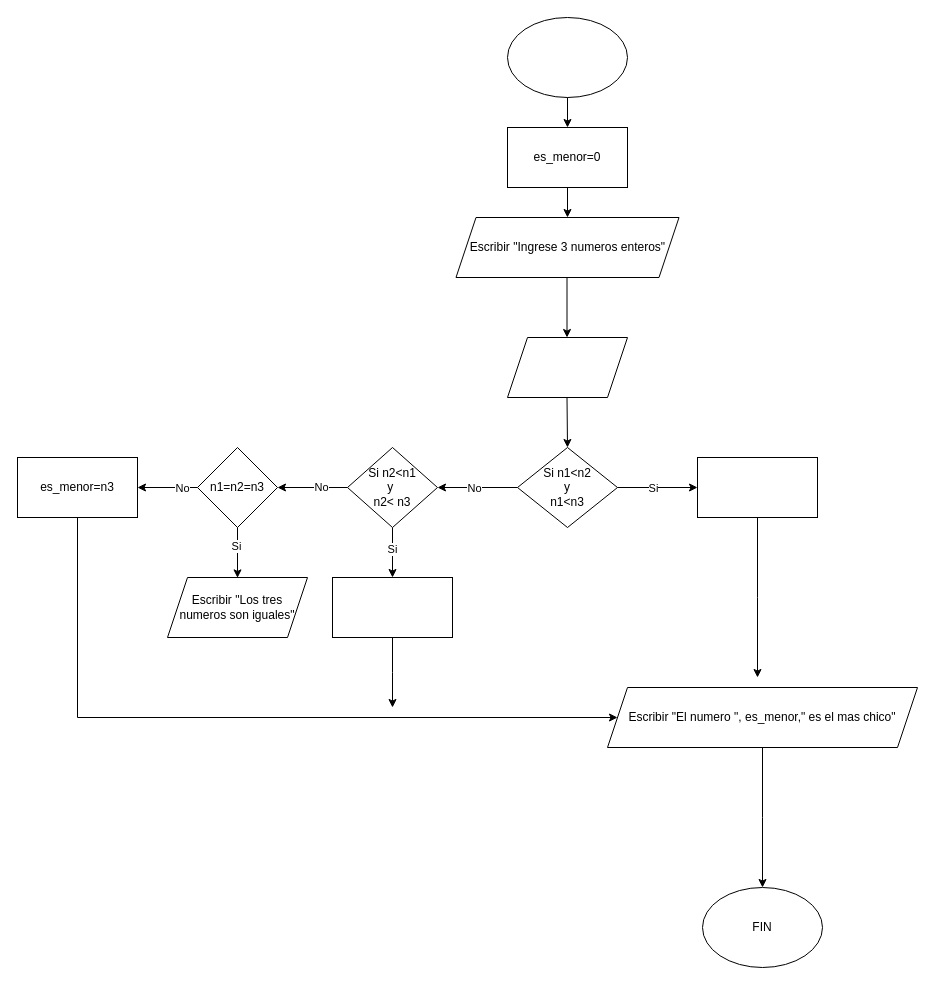
Some shapes in this 935 by 985 pixel diagram are drawn without their labels. Here are the shapes that lost their labels. From the top down, the box of each, then its label:
(506, 16, 628, 98): Inicio
(506, 336, 628, 398): Leer n1,n2,n3
(696, 456, 818, 518): es_menor=n1
(332, 576, 452, 638): es_menor=n2
